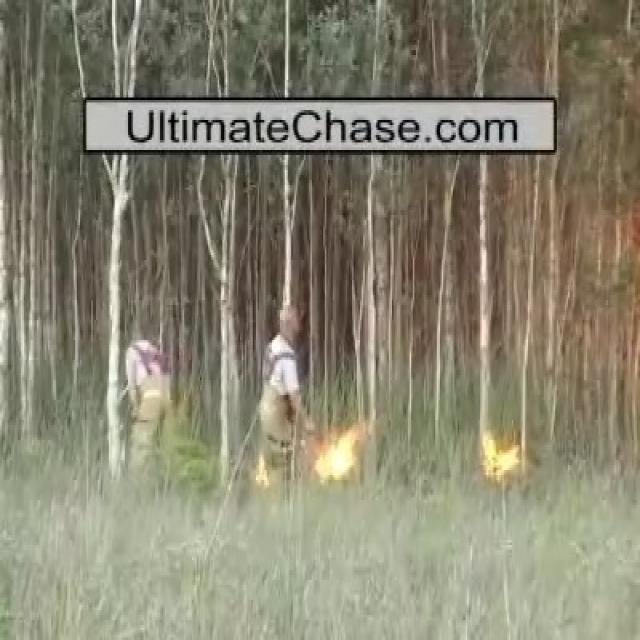fire: (315, 434, 355, 477), (484, 434, 520, 480)
